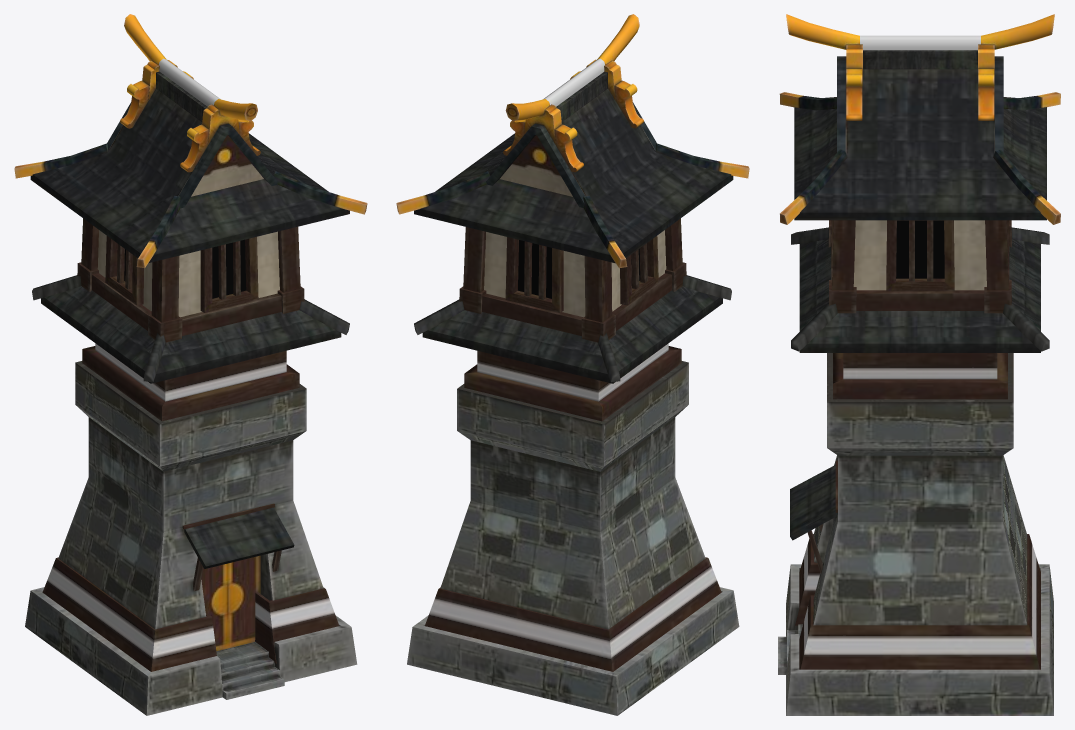
The model's file is 70-guardtower-guard_tower_j_age4.glb.
3 renders of one model, left to right at view 1: azimuth 30°, elevation 25°; view 2: azimuth 150°, elevation 25°; view 3: azimuth 270°, elevation 25°, orthographic. The views are drawn at different scales.
Bounding box in the file's own units: 3.25 × 7.94 × 3.15.
1 material, 1 textured.
